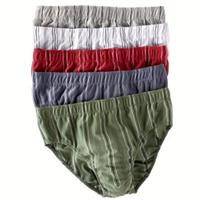mutande: (35, 87, 172, 197), (31, 63, 167, 106), (30, 44, 168, 74), (32, 22, 167, 49), (32, 5, 165, 27)
